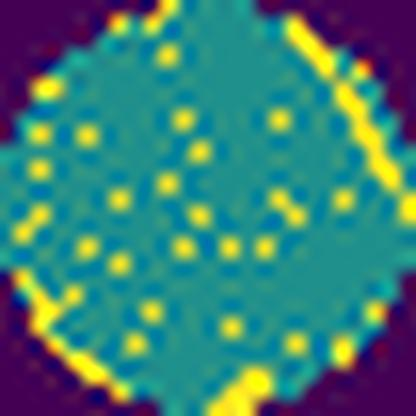Scratch: (283, 14, 406, 202)
